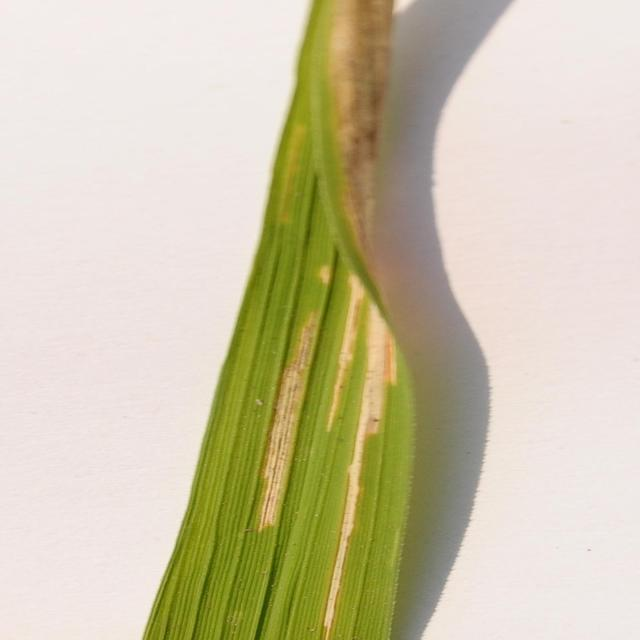Bacterial_Leaf_Blight: (332, 217, 402, 579), (299, 7, 406, 227), (262, 302, 310, 564)
